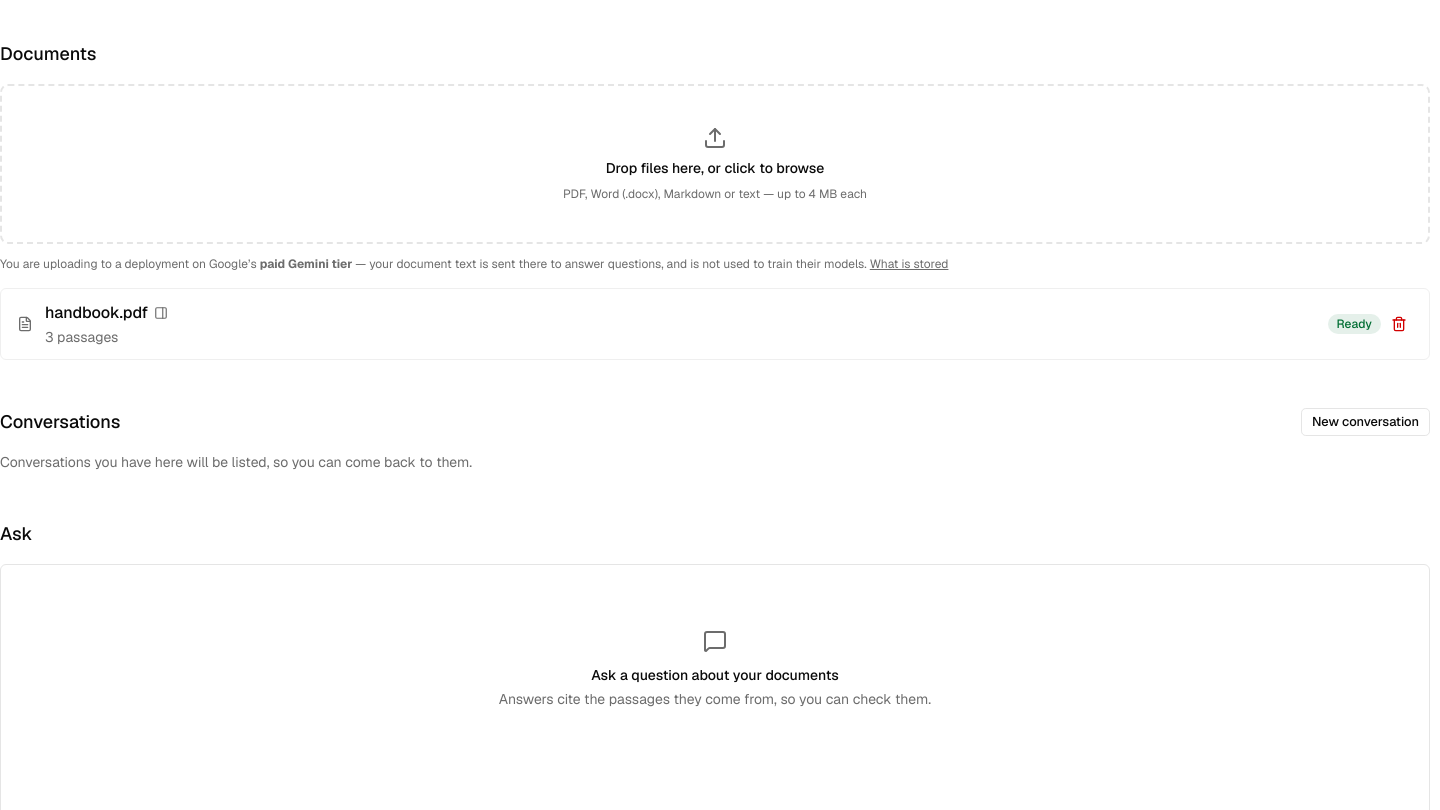
a delete or retry that fails › says nothing was deleted when the server cannot be reached
Click the button named "Delete handbook.pdf" at (1399, 324), box x1=1385 y1=310 x2=1413 y2=338
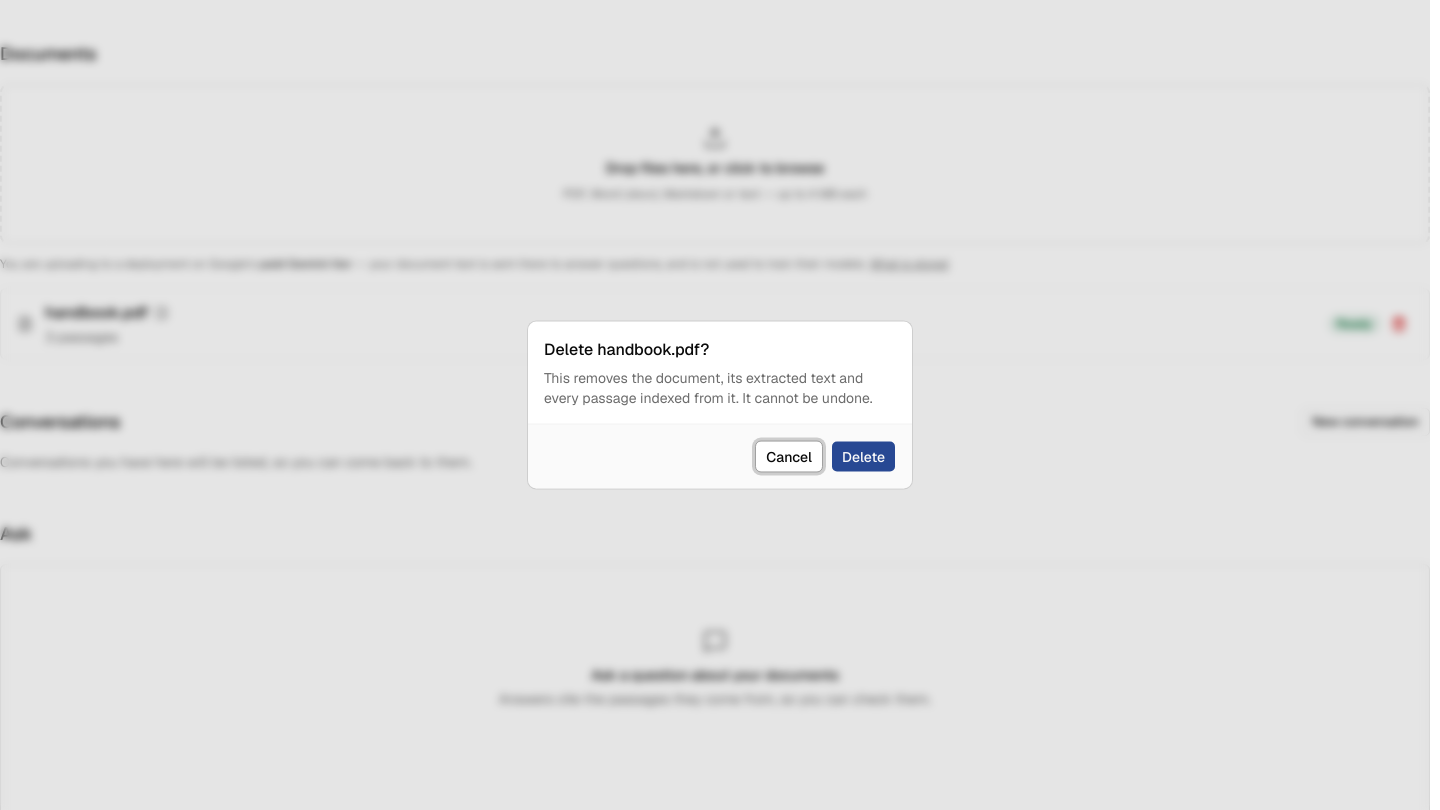
Click the button "Delete" at (863, 456), box x1=831 y1=440 x2=896 y2=472
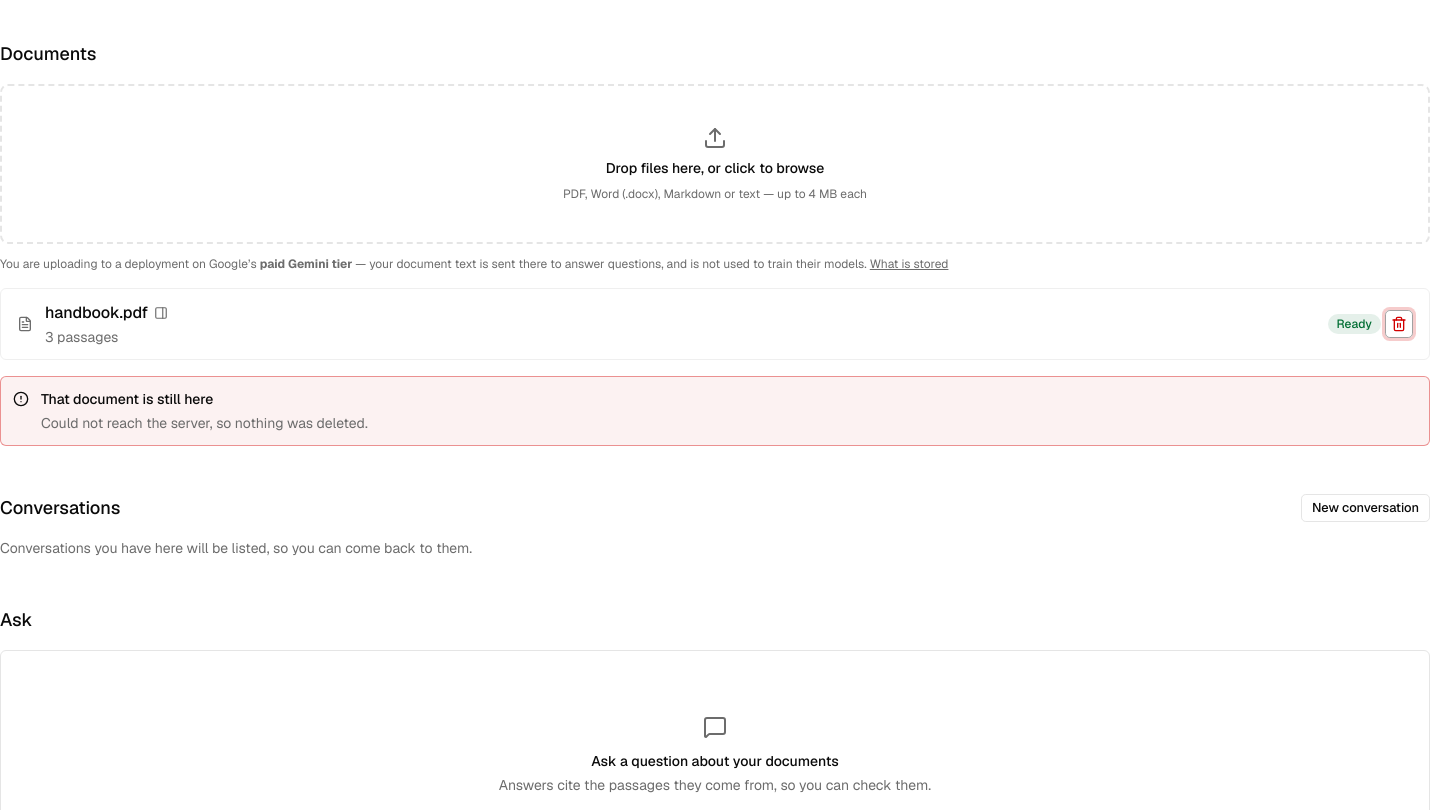
Expected: the text "Could not reach the server, so nothing was deleted." is shown, x1=41 y1=414 x2=368 y2=432
